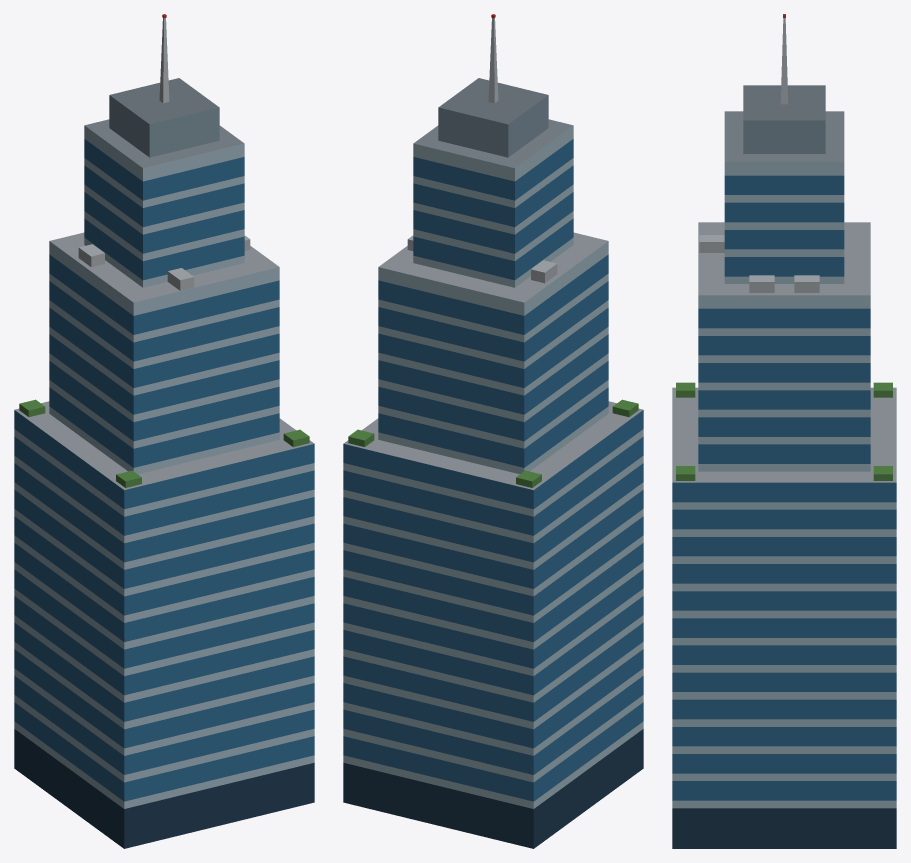
File: building_1.glb
3 views of the same model, side by side, from view 1: azimuth 30°, elevation 25°; view 2: azimuth 150°, elevation 25°; view 3: azimuth 270°, elevation 25° (orthographic). The views are drawn at different scales.
Parts seen in each view (by area): view 1: Building; view 2: Building; view 3: Building.
Boxes of the visible parts, bbox=[...] form: Building: bbox=[14, 14, 314, 848]; Building: bbox=[343, 14, 643, 848]; Building: bbox=[672, 14, 896, 848].
Bounding box in the file's own units: 30 × 116 × 30.
